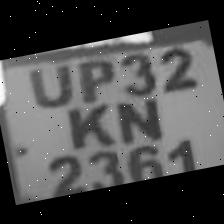1: (160, 128, 201, 173)
2: (148, 34, 203, 98), (34, 142, 88, 197)
3: (109, 37, 161, 97), (76, 135, 124, 187)
6: (118, 135, 166, 181)
K: (61, 96, 112, 150)
N: (105, 89, 162, 146)
P: (64, 43, 120, 102)
U: (18, 53, 78, 115)
